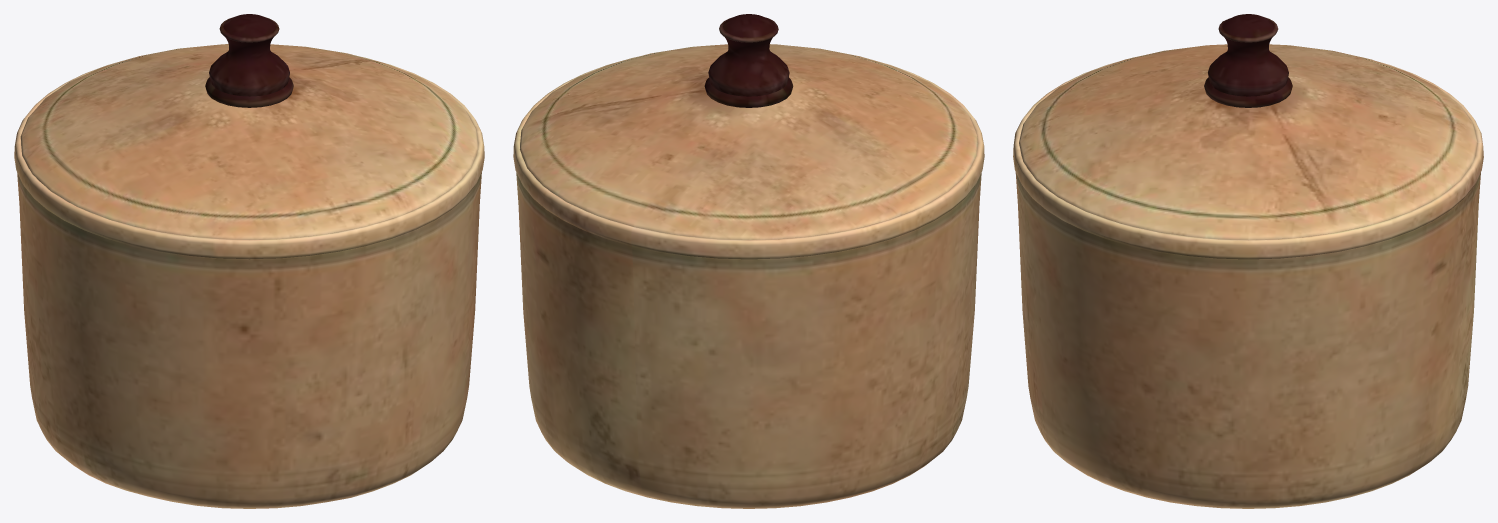
File: brass_pot_01.gltf
3 views of the same model, side by side, from view 1: azimuth 30°, elevation 25°; view 2: azimuth 150°, elevation 25°; view 3: azimuth 270°, elevation 25° (orthographic).
Visible parts, largest first — view 1: brass_pot_01; view 2: brass_pot_01; view 3: brass_pot_01.
Boxes of the visible parts, left/top/right/bottom form: brass_pot_01: left=14, top=14, right=484, bottom=508; brass_pot_01: left=513, top=14, right=984, bottom=508; brass_pot_01: left=1013, top=14, right=1483, bottom=508.
Size of the model in its own units: 0.3019 by 0.2909 by 0.3017.
1 material, 1 textured.
